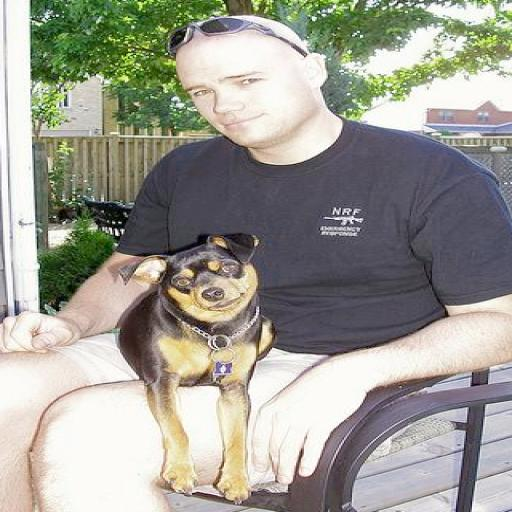dog_face: (104, 230, 267, 320)
